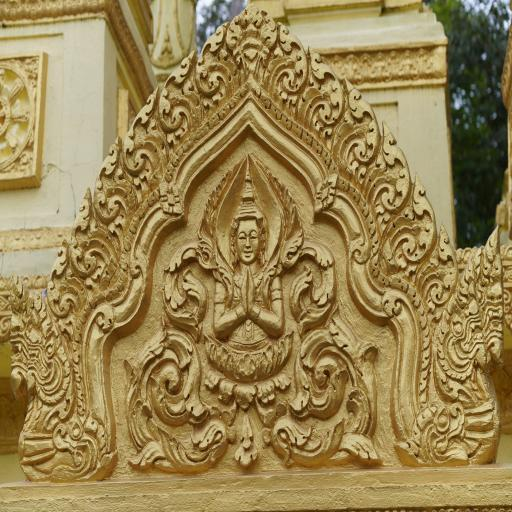la: (121, 328, 212, 422), (270, 411, 388, 474), (289, 328, 365, 422), (124, 418, 233, 482), (64, 180, 126, 289), (386, 170, 441, 284), (120, 80, 172, 199), (41, 229, 94, 343), (225, 0, 283, 98), (332, 72, 381, 187), (286, 232, 342, 330), (191, 14, 242, 119), (412, 218, 461, 324), (261, 19, 315, 115), (158, 46, 206, 154), (92, 135, 140, 243), (368, 116, 412, 230), (298, 43, 346, 141), (164, 236, 213, 330)
ran: (396, 218, 508, 468), (2, 264, 114, 494)
than: (212, 150, 287, 350)
